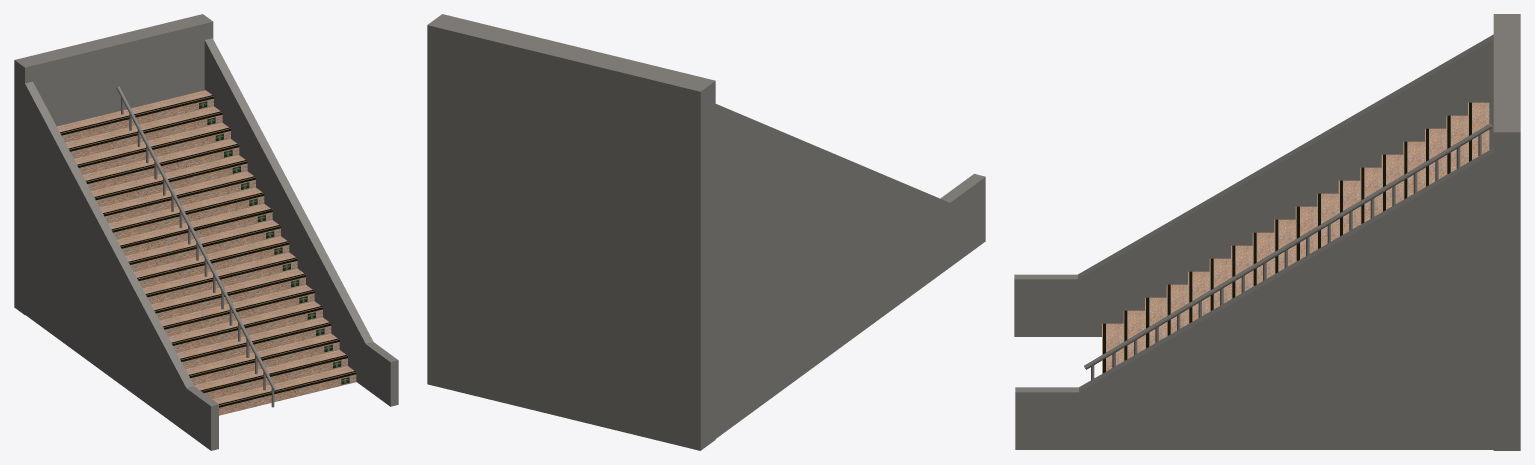
File: stairs.fbx
3 views of the same model, side by side, from view 1: azimuth 30°, elevation 25°; view 2: azimuth 150°, elevation 25°; view 3: azimuth 270°, elevation 25° (orthographic). The views are drawn at different scales.
Visible parts, largest first — view 1: 立方體.001, 立方體, 立方體.000, Cube.010, Cube.009, Cube.012, Cube.011, Cube.015, Cube.014, Cube.013, Cube.008, Cube.016 (+27 smaller); view 2: 立方體, 立方體.001; view 3: 立方體.000, 立方體.001, 立方體, 圓柱體, Cube.010, Cube.012, Cube.013, Cube.009, Cube.015, Cube.014, Cube.011, Cube.007 (+10 smaller).
Part boxes in pixels (box(x1,y1,x2,y2)): 立方體.001: box(18, 71, 218, 450); 立方體: box(14, 14, 213, 314); 立方體.000: box(204, 38, 398, 406); Cube.010: box(65, 106, 222, 158); Cube.009: box(57, 90, 213, 142); Cube.012: box(82, 139, 239, 190); Cube.011: box(74, 122, 230, 174); Cube.015: box(108, 187, 264, 239); Cube.014: box(100, 171, 255, 223); Cube.013: box(91, 155, 247, 207); Cube.008: box(134, 236, 289, 288); Cube.016: box(117, 204, 272, 255); 立方體: box(427, 14, 715, 450); 立方體.001: box(706, 99, 985, 445); 立方體.000: box(1015, 148, 1493, 449); 立方體.001: box(1014, 34, 1493, 336); 立方體: box(1493, 14, 1520, 450); 圓柱體: box(1084, 123, 1492, 369); Cube.010: box(1446, 115, 1467, 174); Cube.012: box(1403, 141, 1424, 199); Cube.013: box(1381, 154, 1403, 211); Cube.009: box(1468, 102, 1489, 162); Cube.015: box(1338, 180, 1360, 236); Cube.014: box(1360, 167, 1381, 224); Cube.011: box(1425, 128, 1446, 186); Cube.007: box(1252, 232, 1274, 286).
Bounding box in the file's own units: 781 × 980 × 1411.
199 materials, 106 textured.
